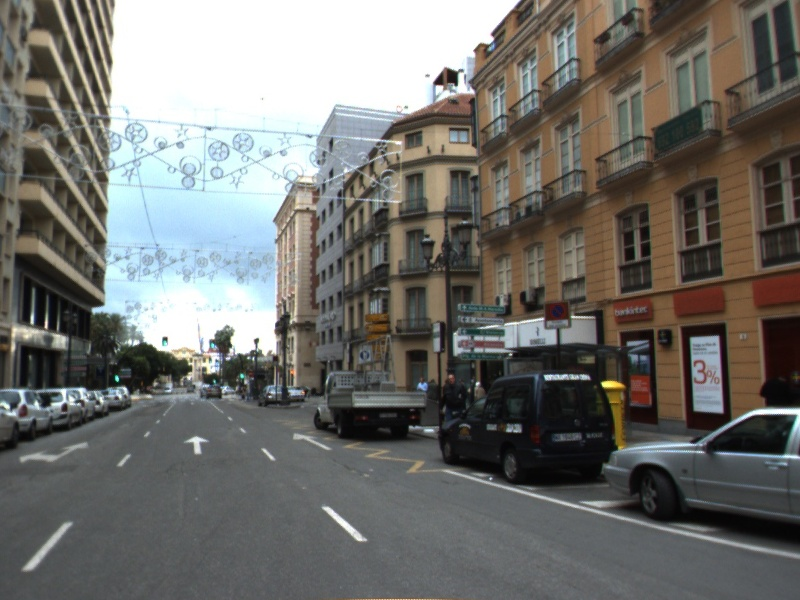STRAIGHT: (291, 430, 336, 452), (182, 433, 213, 456)
STRAIGHT_LEFT: (17, 439, 91, 466)
